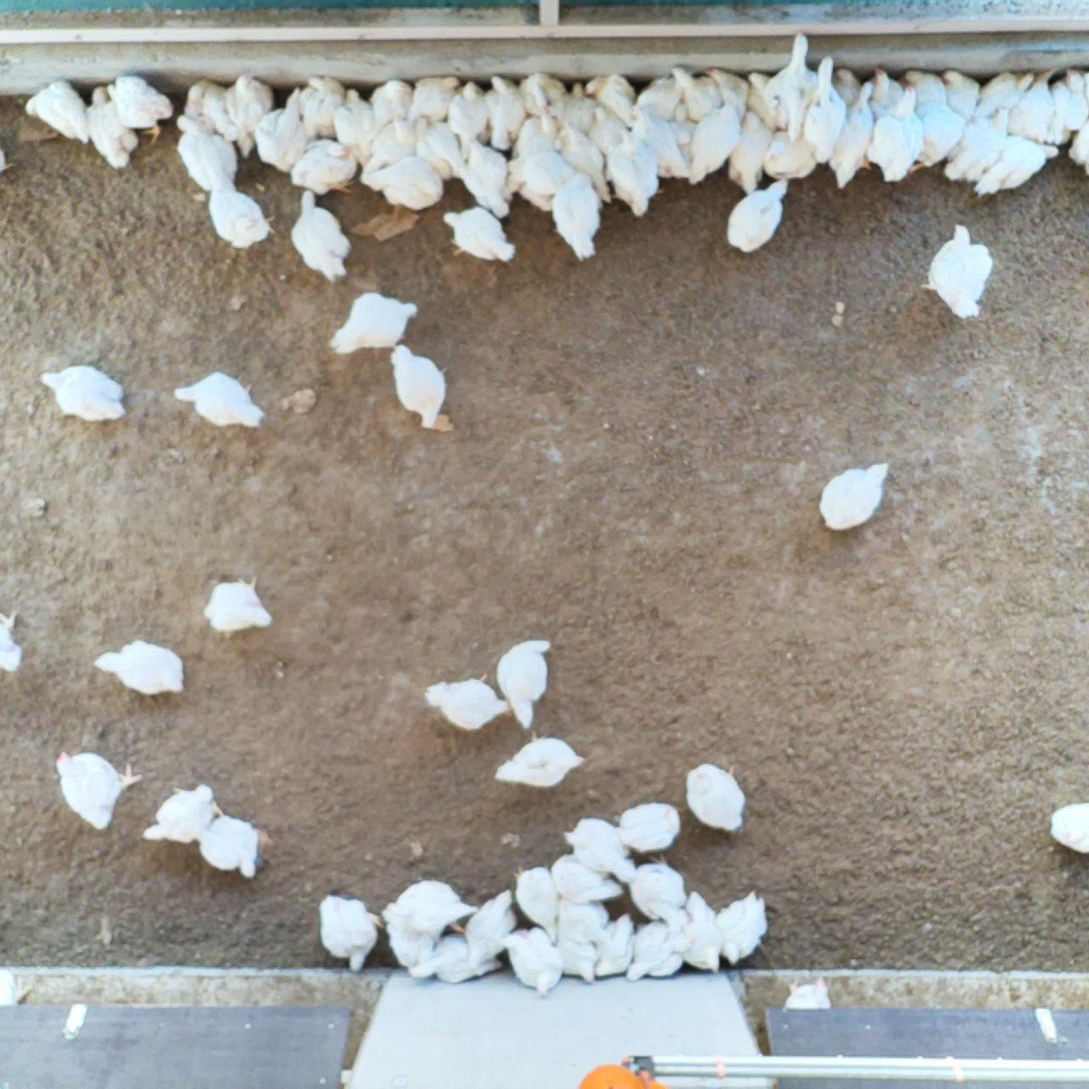chicken: (386, 870, 476, 974), (53, 743, 145, 834), (919, 220, 997, 327), (325, 286, 422, 361), (490, 724, 588, 798), (285, 187, 355, 284), (489, 632, 555, 734), (810, 456, 894, 536), (91, 634, 188, 701), (941, 102, 1018, 186), (967, 133, 1061, 201), (391, 343, 456, 441), (760, 27, 820, 131), (861, 85, 922, 186), (37, 362, 130, 428), (170, 368, 264, 433), (416, 670, 513, 730), (252, 84, 314, 176), (316, 888, 384, 971), (725, 177, 795, 255), (85, 78, 141, 175), (141, 781, 227, 844), (101, 73, 175, 146), (405, 932, 504, 986), (826, 80, 873, 192), (800, 53, 846, 167), (208, 178, 278, 251), (438, 203, 520, 265), (556, 116, 613, 205), (684, 758, 749, 834), (686, 105, 744, 190), (566, 813, 635, 884), (551, 174, 604, 266), (198, 571, 276, 633), (201, 816, 274, 882), (174, 117, 239, 191), (361, 154, 446, 210), (616, 132, 664, 225), (549, 847, 627, 904), (503, 108, 557, 190), (25, 80, 93, 145), (459, 137, 515, 215), (718, 887, 773, 966), (634, 104, 690, 181), (627, 852, 688, 921), (288, 136, 359, 195), (504, 925, 562, 996), (227, 70, 276, 154), (626, 920, 687, 986), (468, 886, 513, 973), (727, 108, 769, 197), (511, 861, 558, 937), (613, 798, 679, 852), (680, 891, 722, 973), (581, 70, 644, 124), (558, 905, 599, 986), (483, 72, 527, 147), (415, 117, 468, 178), (301, 70, 348, 137), (330, 85, 376, 153), (669, 60, 726, 114), (977, 66, 1035, 118), (596, 913, 639, 982), (767, 130, 820, 183), (1021, 63, 1058, 138), (743, 67, 788, 126), (667, 98, 706, 163), (447, 80, 491, 137), (900, 67, 948, 117), (1046, 799, 1089, 854), (704, 61, 751, 111), (583, 101, 622, 161), (523, 145, 571, 193), (939, 66, 980, 120), (190, 78, 230, 132), (413, 71, 463, 114), (519, 70, 564, 116), (362, 120, 418, 156), (635, 70, 680, 114), (369, 74, 411, 119), (1064, 64, 1089, 138), (1063, 108, 1089, 179), (865, 68, 904, 115), (560, 81, 595, 132), (1049, 77, 1072, 145), (831, 64, 862, 104)
